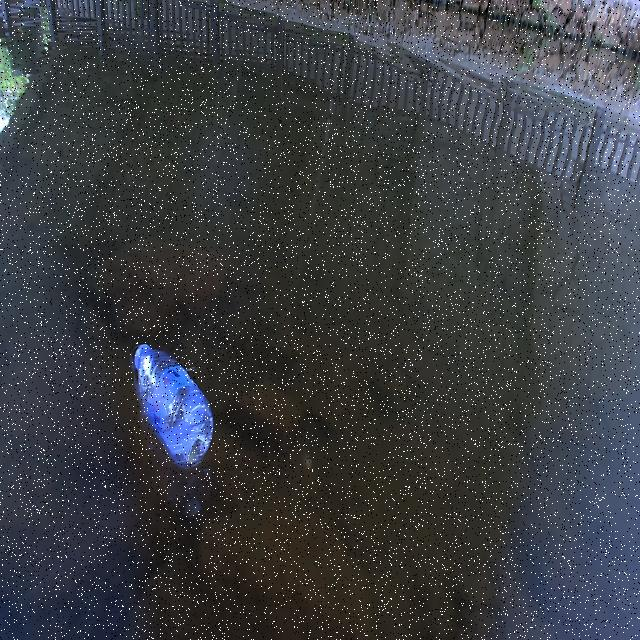Bottle: (131, 334, 216, 472)
